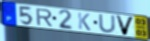2: (58, 9, 74, 31)
5: (18, 5, 34, 26)
K: (77, 11, 92, 32)
R: (35, 8, 54, 27)
U: (98, 14, 117, 34)
V: (114, 15, 136, 37)
